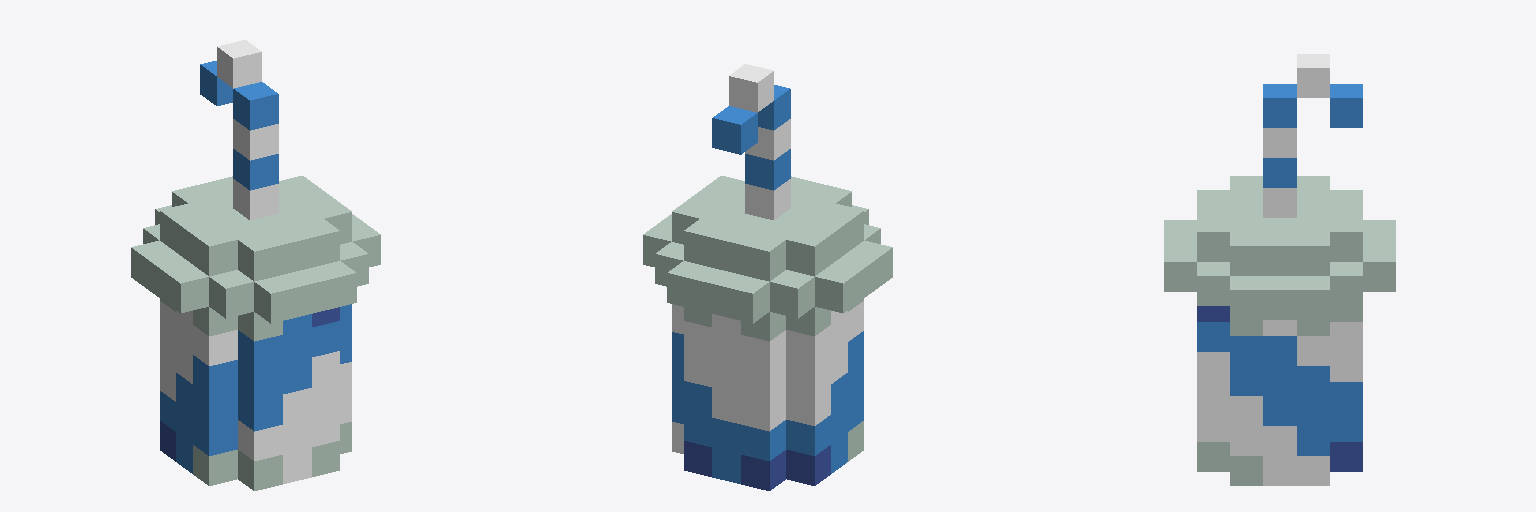
3 renders of one model, left to right at view 1: azimuth 30°, elevation 25°; view 2: azimuth 150°, elevation 25°; view 3: azimuth 270°, elevation 25°, orthographic.
Parts seen in each view (by area): view 1: object 1; view 2: object 1; view 3: object 1.
Part boxes in pixels (left/top/right/bottom): object 1: left=131, top=40, right=380, bottom=490; object 1: left=643, top=64, right=892, bottom=490; object 1: left=1164, top=54, right=1395, bottom=485.
Bounding box in the file's own units: 0.7 × 1.3 × 0.7.
1 materials, 1 textured.